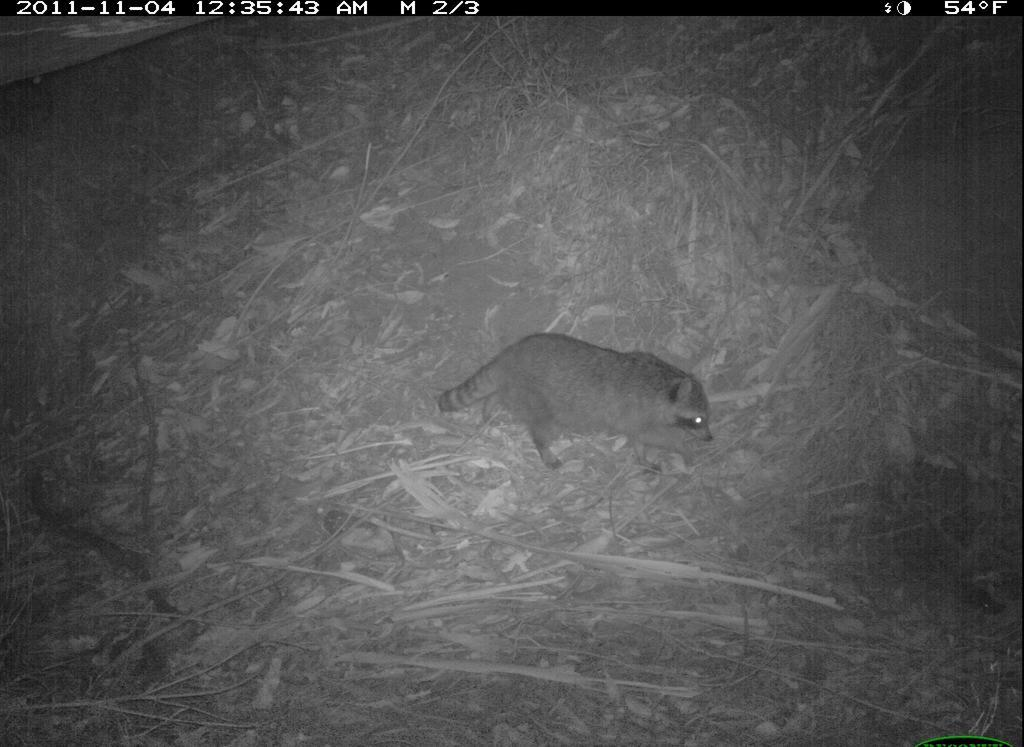raccoon: (425, 326, 723, 484)
